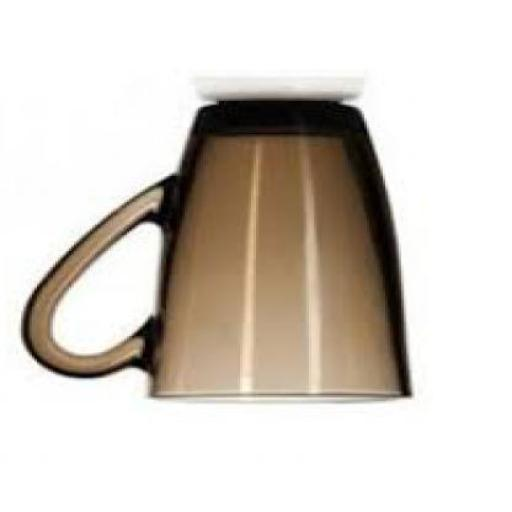glass: (23, 101, 415, 404)
